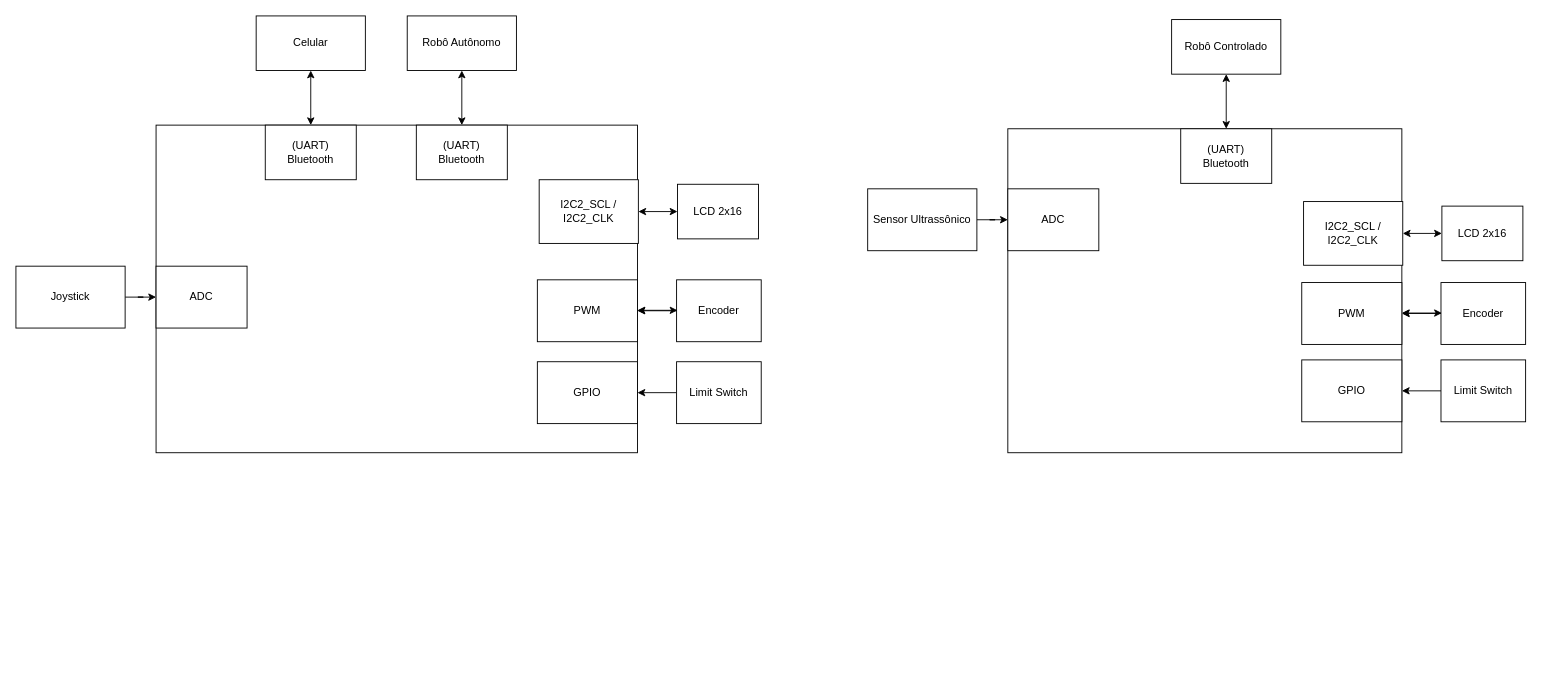
Image size: 1542x693. Some labels were removed from this diagram. The box of each missing label's shape, as (x1, y1, x2, y2) in pixels:
STM32 G474RE CARRO AUTÔNOMO: (1007, 128, 1402, 453)
STM32 G474RE CARRO CONTROLADO: (155, 124, 637, 453)
